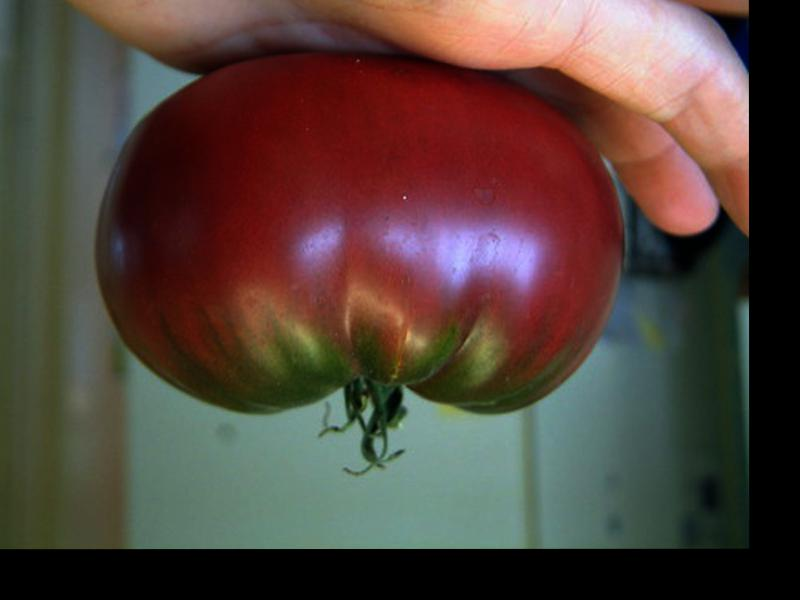Tomato: (95, 52, 623, 415)
